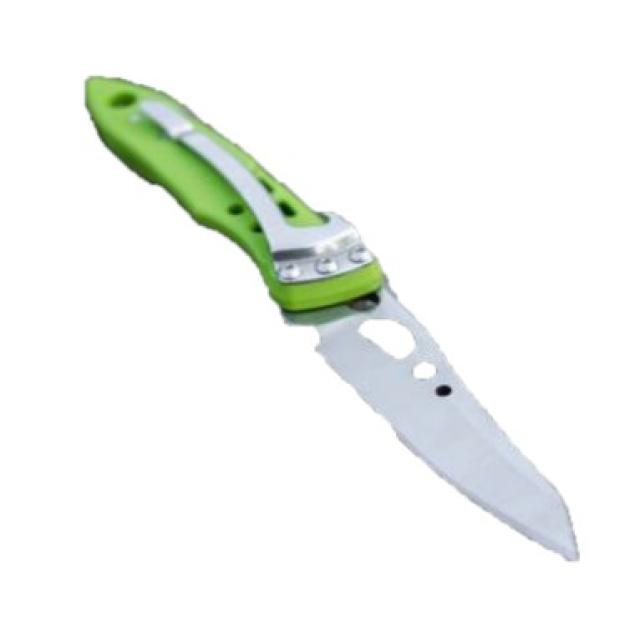knife: (76, 62, 591, 563)
